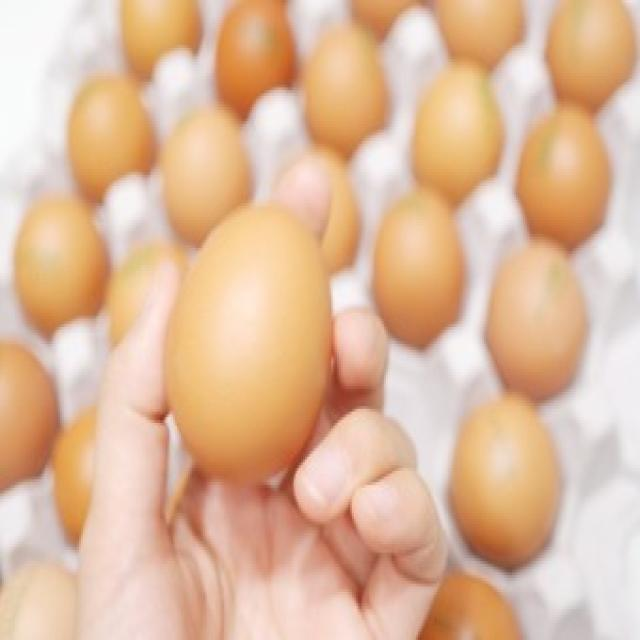eggs: (159, 193, 337, 493), (442, 397, 562, 564), (492, 243, 594, 396), (372, 187, 462, 356), (413, 61, 506, 201), (60, 74, 161, 198), (521, 106, 609, 237)
